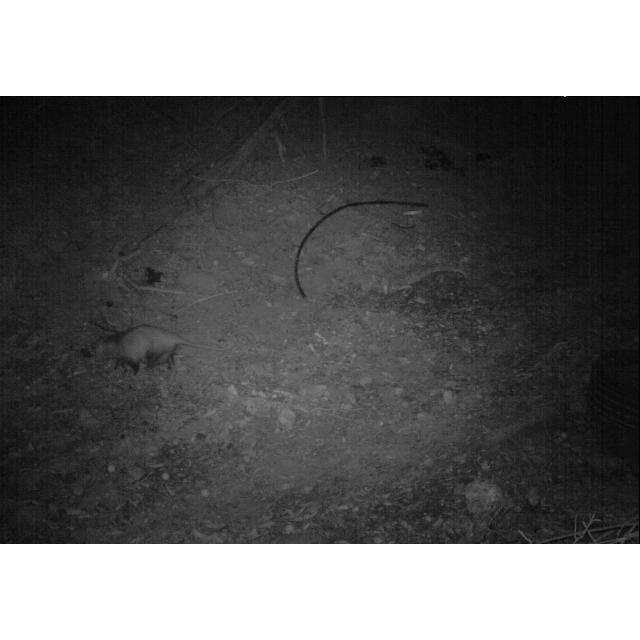animals: (80, 326, 224, 372)
